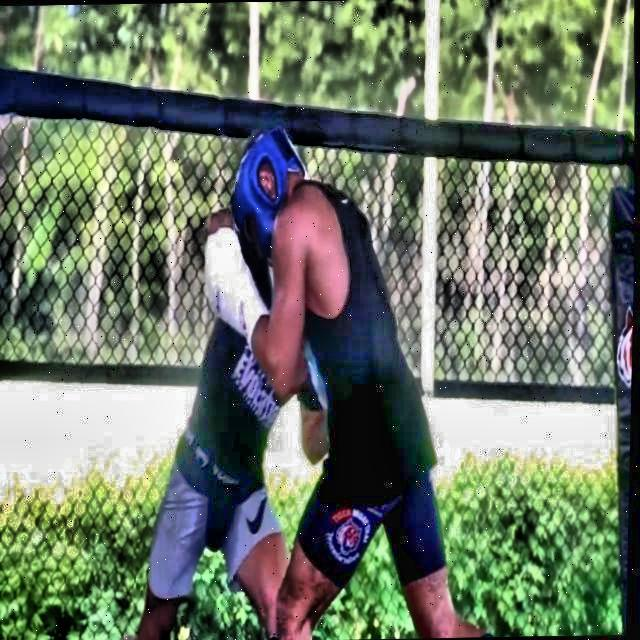high-guard: (224, 124, 304, 308)
